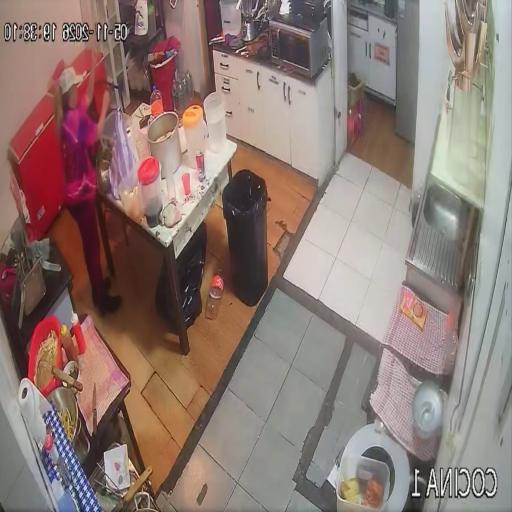Basurero: (222, 169, 268, 306)
Cuchillo1: (92, 383, 97, 435)
Envase Ketchup: (71, 313, 85, 354)
Envase Llajua: (61, 325, 78, 361)
Jarra1: (138, 156, 162, 227)
Jarra2: (182, 105, 208, 168)
Jarra3: (203, 91, 227, 152)
Microondas: (269, 16, 329, 77)
Persona2: (55, 62, 122, 314)
Tapa de olla: (412, 380, 446, 439)
Taper: (336, 452, 390, 512)
Taper2: (101, 109, 118, 143), (123, 112, 131, 128)
Taper4: (119, 156, 149, 223)
Vaso1: (182, 173, 191, 196)
olla1: (148, 112, 182, 179)
